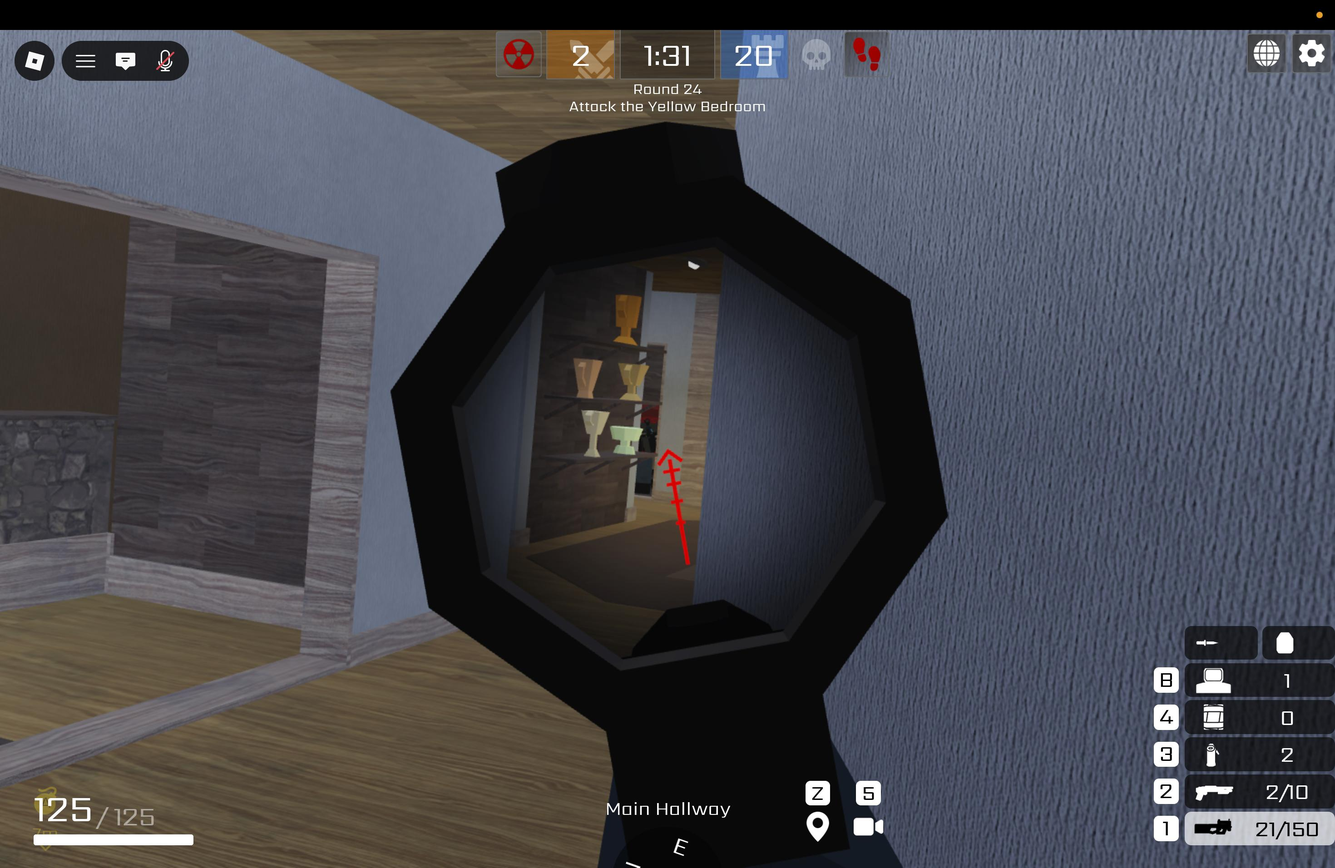enemy: (632, 400, 664, 495)
